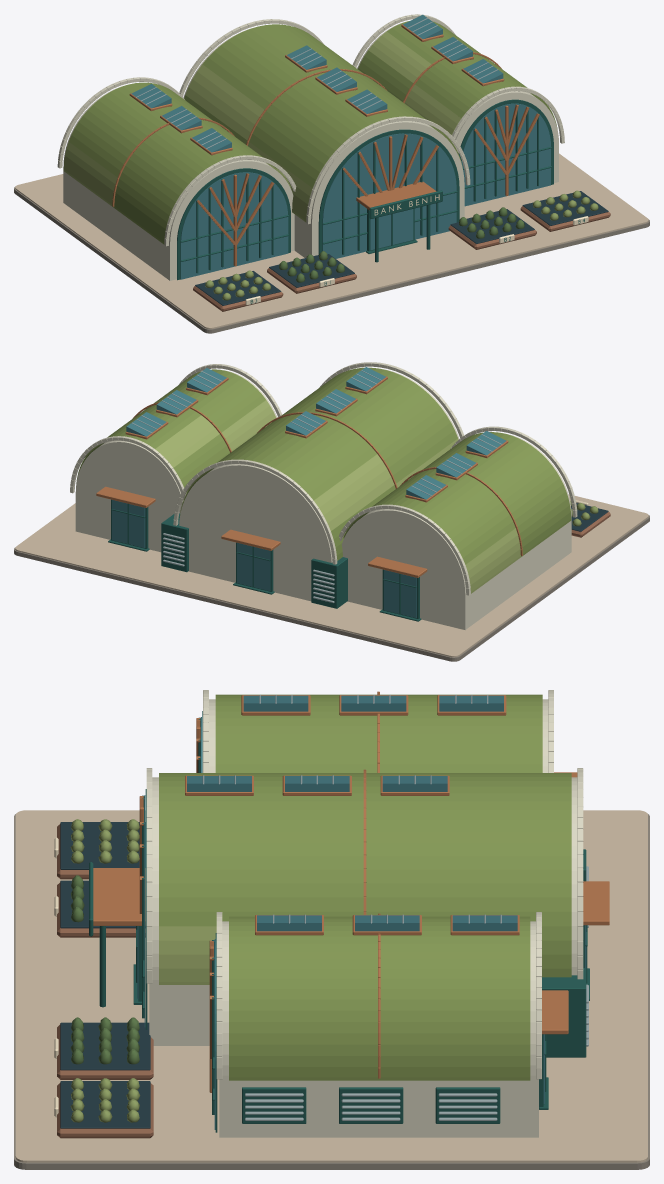
3 views of the same model, one above another, from view 1: azimuth 30°, elevation 25°; view 2: azimuth 150°, elevation 25°; view 3: azimuth 270°, elevation 25° (orthographic). The views are drawn at different scales.
Parts seen in each view (by area): view 1: Seed Vaults, Accession Gallery, Trial Beds, Vault Ribs; view 2: Seed Vaults, Trial Beds, Cold Store, Vault Ribs; view 3: Seed Vaults, Trial Beds, Cold Store, Accession Gallery, Vault Ribs.
Boxes of the visible parts, left/top/right/bottom form: Seed Vaults: left=63, top=14, right=558, bottom=280; Accession Gallery: left=177, top=99, right=553, bottom=280; Trial Beds: left=14, top=153, right=649, bottom=333; Vault Ribs: left=57, top=14, right=564, bottom=246; Seed Vaults: left=75, top=367, right=571, bottom=629; Trial Beds: left=14, top=494, right=649, bottom=661; Cold Store: left=96, top=486, right=427, bottom=621; Vault Ribs: left=70, top=362, right=577, bottom=595; Seed Vaults: left=149, top=694, right=577, bottom=1137; Trial Beds: left=14, top=810, right=649, bottom=1169; Cold Store: left=242, top=772, right=609, bottom=1123; Accession Gallery: left=89, top=711, right=217, bottom=1132; Vault Ribs: left=146, top=690, right=583, bottom=1079.
Bounding box in the file's own units: 27.25 × 7.9 × 20.8.
